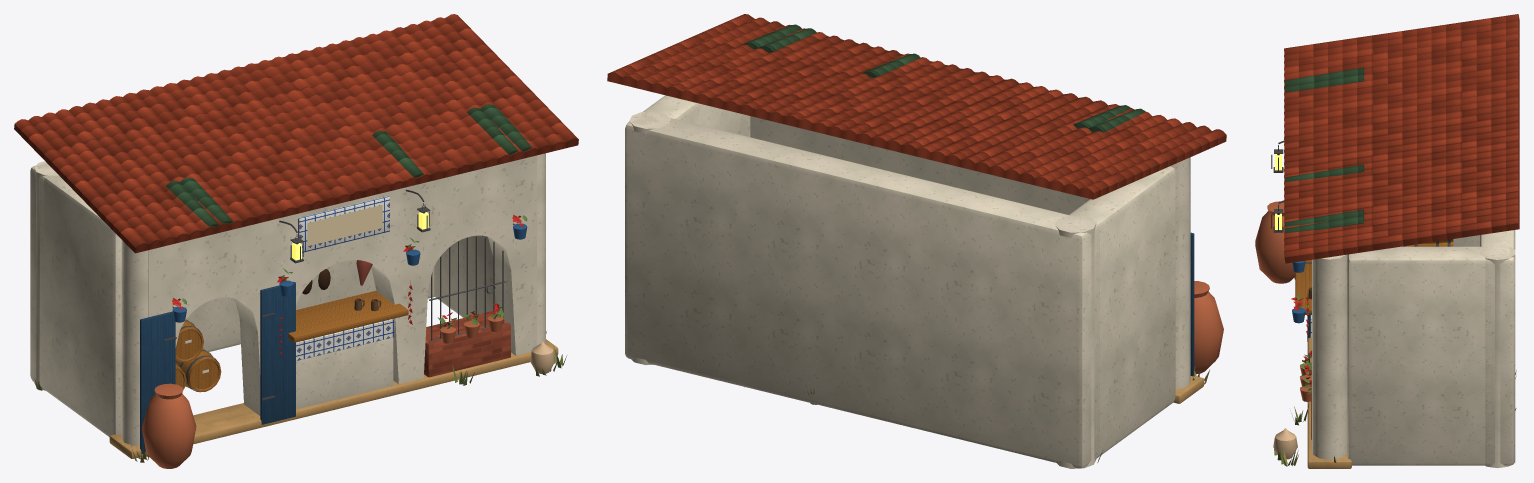
Rendered from tavern-venta.glb.
3 views of the same model, side by side, from view 1: azimuth 30°, elevation 25°; view 2: azimuth 150°, elevation 25°; view 3: azimuth 270°, elevation 25° (orthographic). The views are drawn at different scales.
Visible parts, largest first — view 1: tavern_venta, sign_face; view 2: tavern_venta; view 3: tavern_venta.
Part boxes in pixels (x1,y1,x2,y2): tavern_venta: (14, 14, 578, 468); sign_face: (307, 205, 382, 246); tavern_venta: (607, 14, 1226, 468); tavern_venta: (1255, 14, 1519, 468).
Size of the model in its own units: 9.03 by 5.09 by 4.83.
24 materials, 9 textured.
